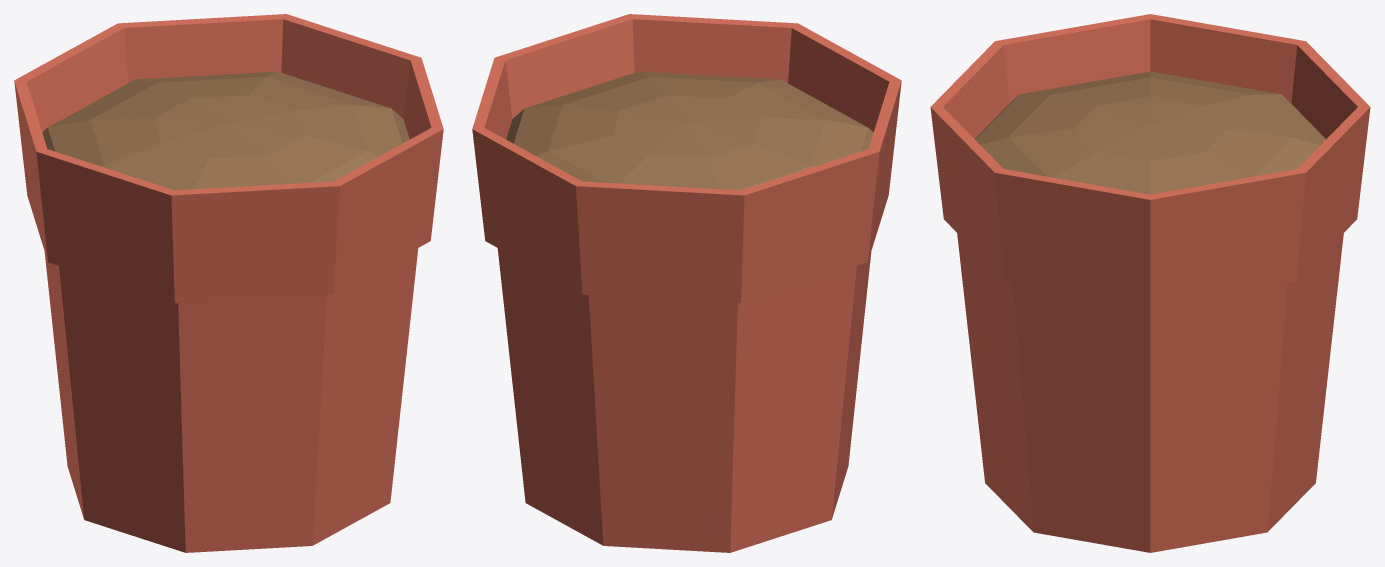
File: FlowerPot.fbx
3 renders of one model, left to right at view 1: azimuth 30°, elevation 25°; view 2: azimuth 150°, elevation 25°; view 3: azimuth 270°, elevation 25°, orthographic.
Parts seen in each view (by area): view 1: Flower Pot, Dirt; view 2: Flower Pot, Dirt; view 3: Flower Pot, Dirt.
Boxes of the visible parts, x1,y1,x2,y2 form: Flower Pot: (14,14,443,552); Dirt: (42,71,409,190); Flower Pot: (472,14,901,552); Dirt: (506,71,873,190); Flower Pot: (930,14,1370,552); Dirt: (975,71,1325,194).
Size of the model in its own units: 212 by 200 by 212.
